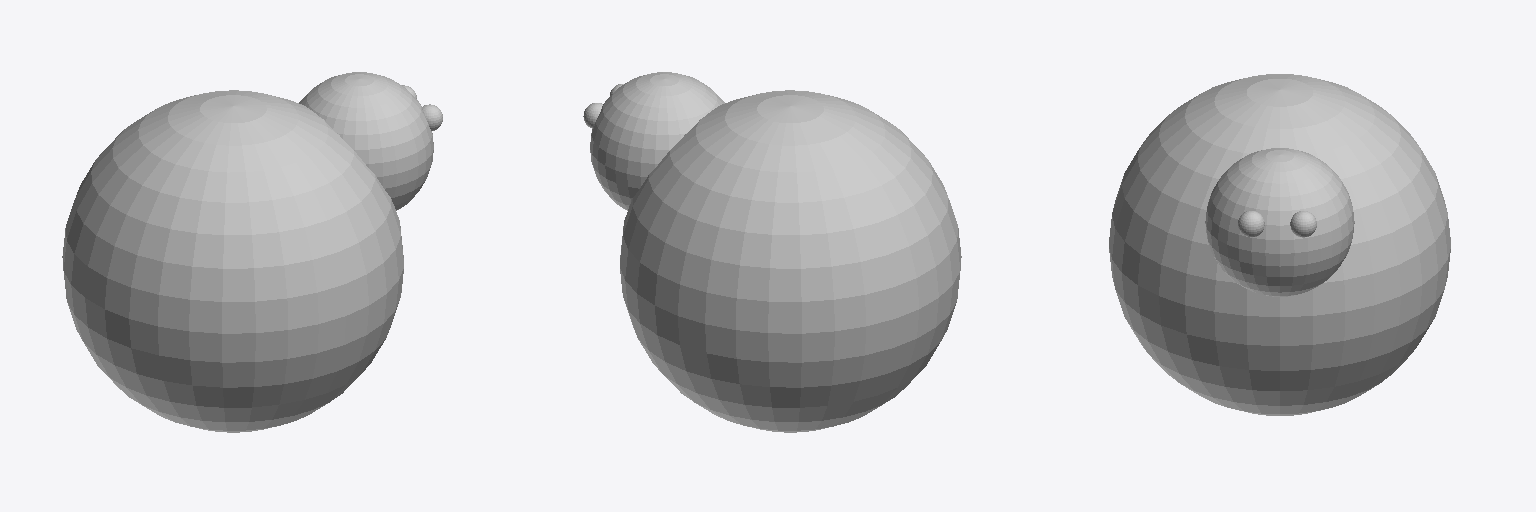
File: bumblebee2.obj
3 renders of one model, left to right at view 1: azimuth 30°, elevation 25°; view 2: azimuth 150°, elevation 25°; view 3: azimuth 270°, elevation 25°, orthographic.
Parts seen in each view (by area): view 1: Sphere, Sphere.001; view 2: Sphere, Sphere.001; view 3: Sphere, Sphere.001, Sphere.002, Sphere.003.
Part boxes in pixels (x1,y1,x2,y2): Sphere: (62, 90, 403, 432); Sphere.001: (299, 72, 433, 210); Sphere: (620, 90, 961, 432); Sphere.001: (590, 72, 724, 210); Sphere: (1109, 74, 1450, 415); Sphere.001: (1205, 148, 1354, 296); Sphere.002: (1238, 211, 1264, 237); Sphere.003: (1290, 211, 1316, 237).
Size of the model in its own units: 6.19 by 5.37 by 5.37.